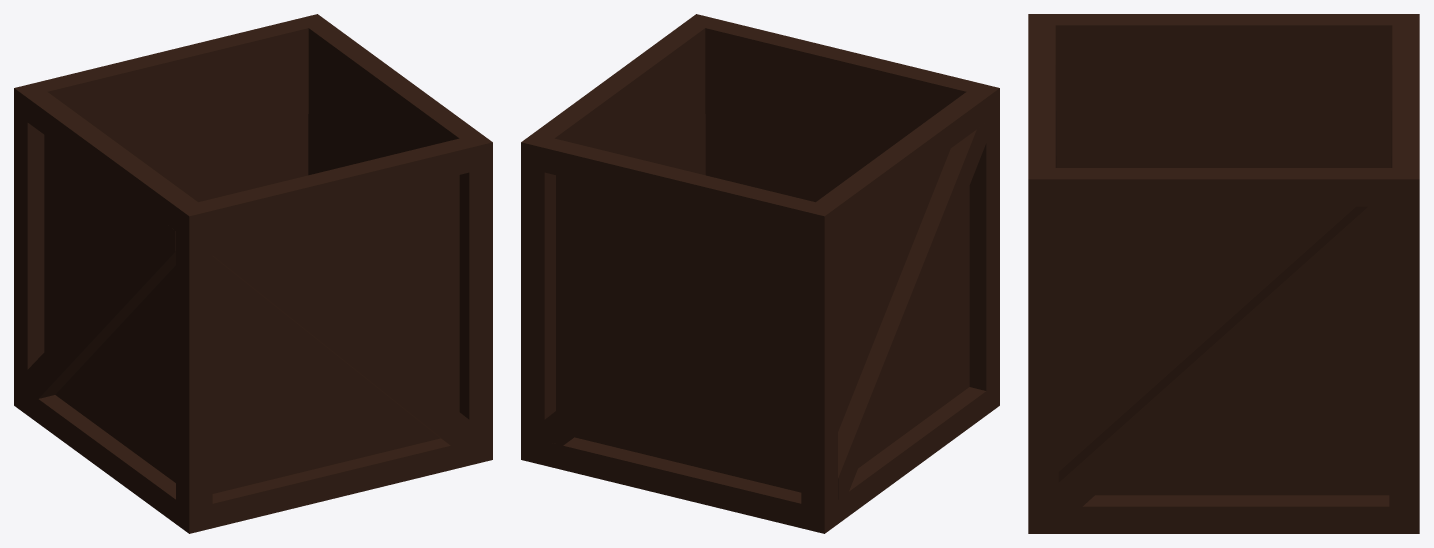
3 views of the same model, side by side, from view 1: azimuth 30°, elevation 25°; view 2: azimuth 150°, elevation 25°; view 3: azimuth 270°, elevation 25° (orthographic). The views are drawn at different scales.
Parts seen in each view (by area): view 1: Cube.003; view 2: Cube.003; view 3: Cube.003.
Boxes of the visible parts, bbox=[...] form: Cube.003: bbox=[14, 14, 492, 533]; Cube.003: bbox=[521, 14, 999, 533]; Cube.003: bbox=[1028, 14, 1419, 533].
Size of the model in its own units: 200 by 200 by 200.
